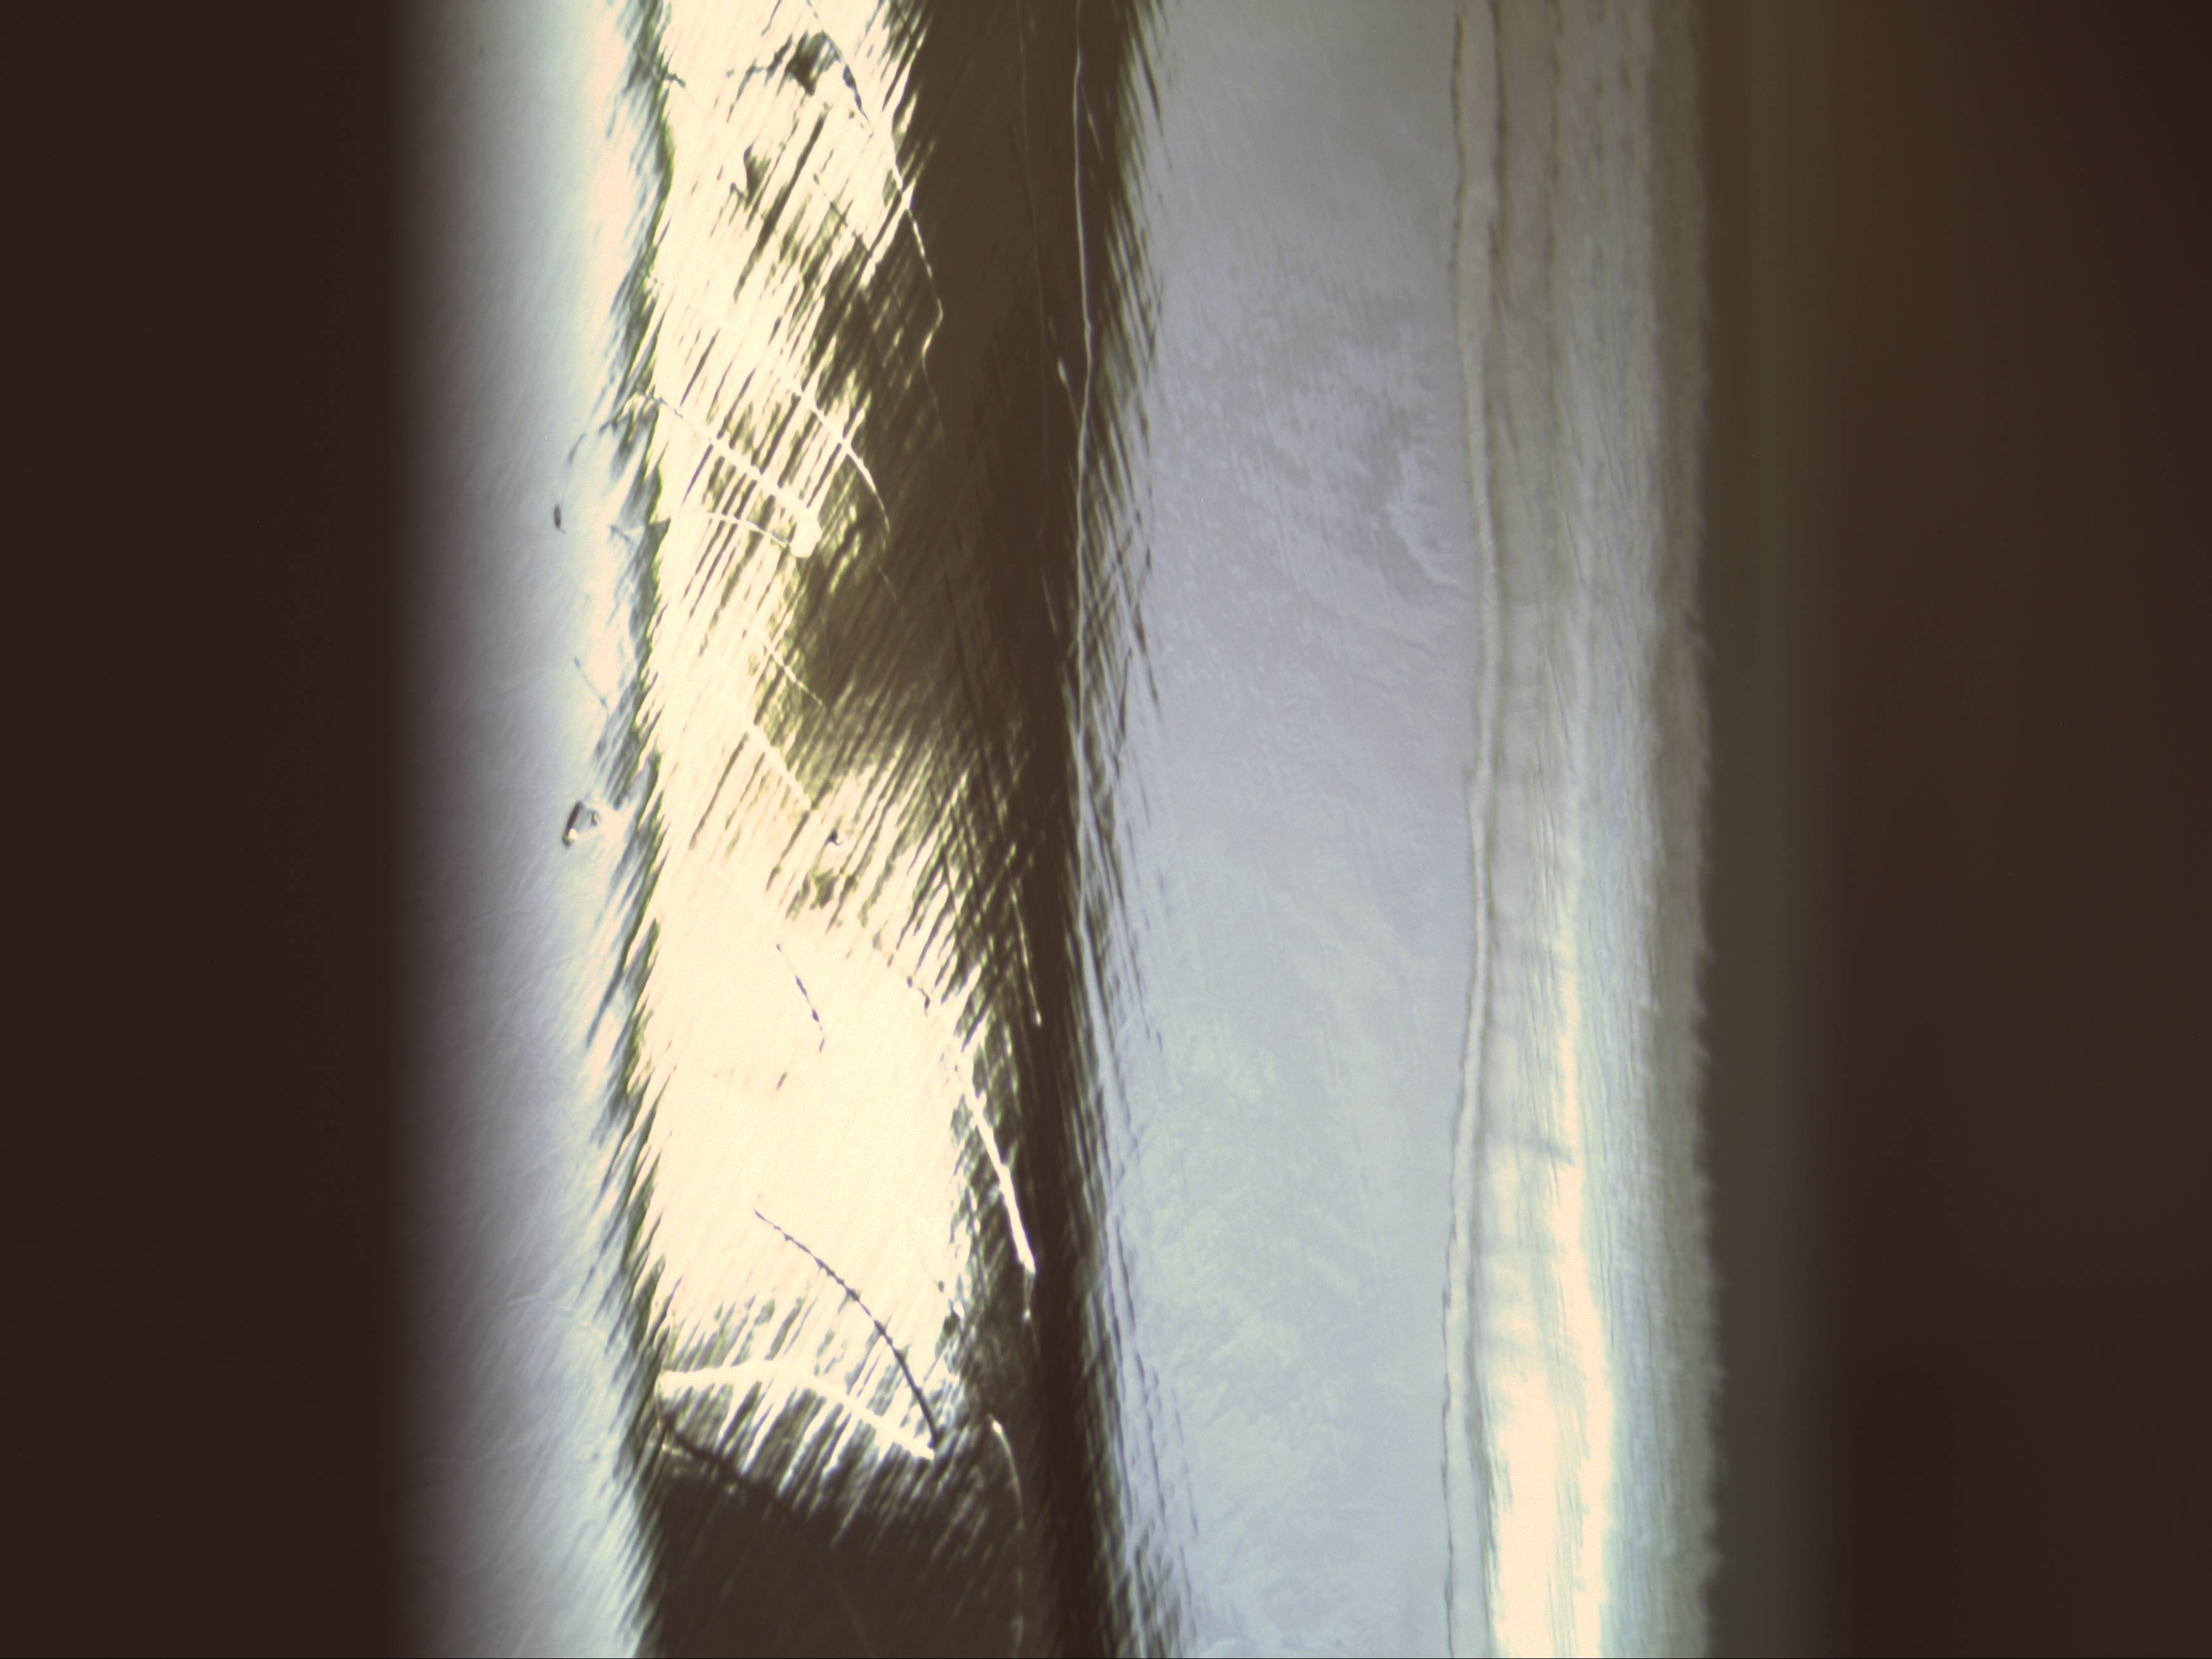defect: (550, 819, 590, 850)
